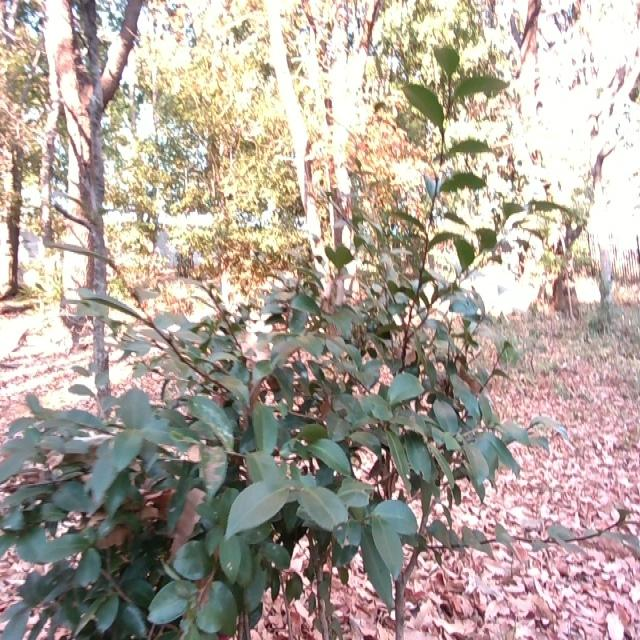bush: (3, 48, 560, 640)
tree: (34, 0, 147, 409), (264, 0, 387, 300)
